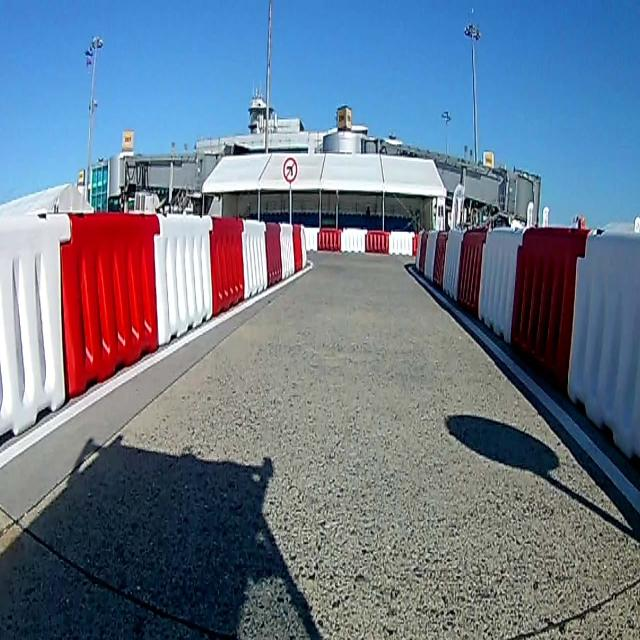soladonulmez: (284, 158, 298, 182)
